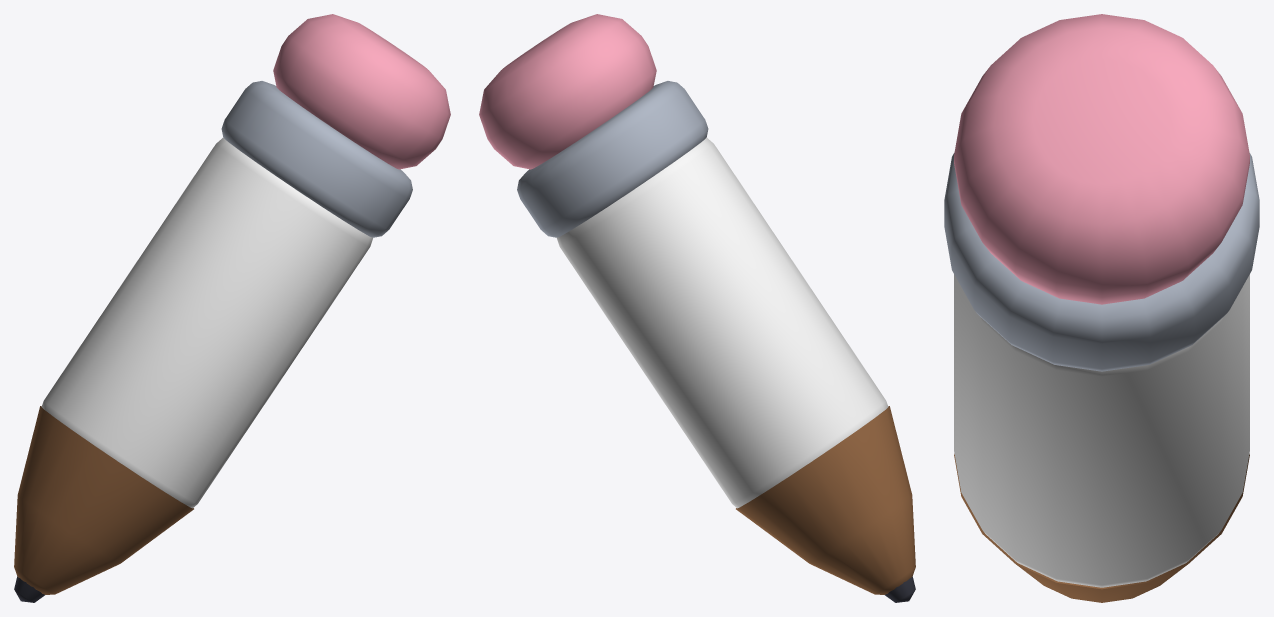
File: pencil_obj.glb
3 views of the same model, side by side, from view 1: azimuth 30°, elevation 25°; view 2: azimuth 150°, elevation 25°; view 3: azimuth 270°, elevation 25° (orthographic). The views are drawn at different scales.
Visible parts, largest first — view 1: pencil_obj; view 2: pencil_obj; view 3: pencil_obj.
Part boxes in pixels (box(x1,y1,x2,y2)): pencil_obj: box(14, 14, 450, 602); pencil_obj: box(479, 14, 915, 602); pencil_obj: box(944, 14, 1259, 602).
Bounding box in the file's own units: 0.8761 × 1 × 0.3575.
